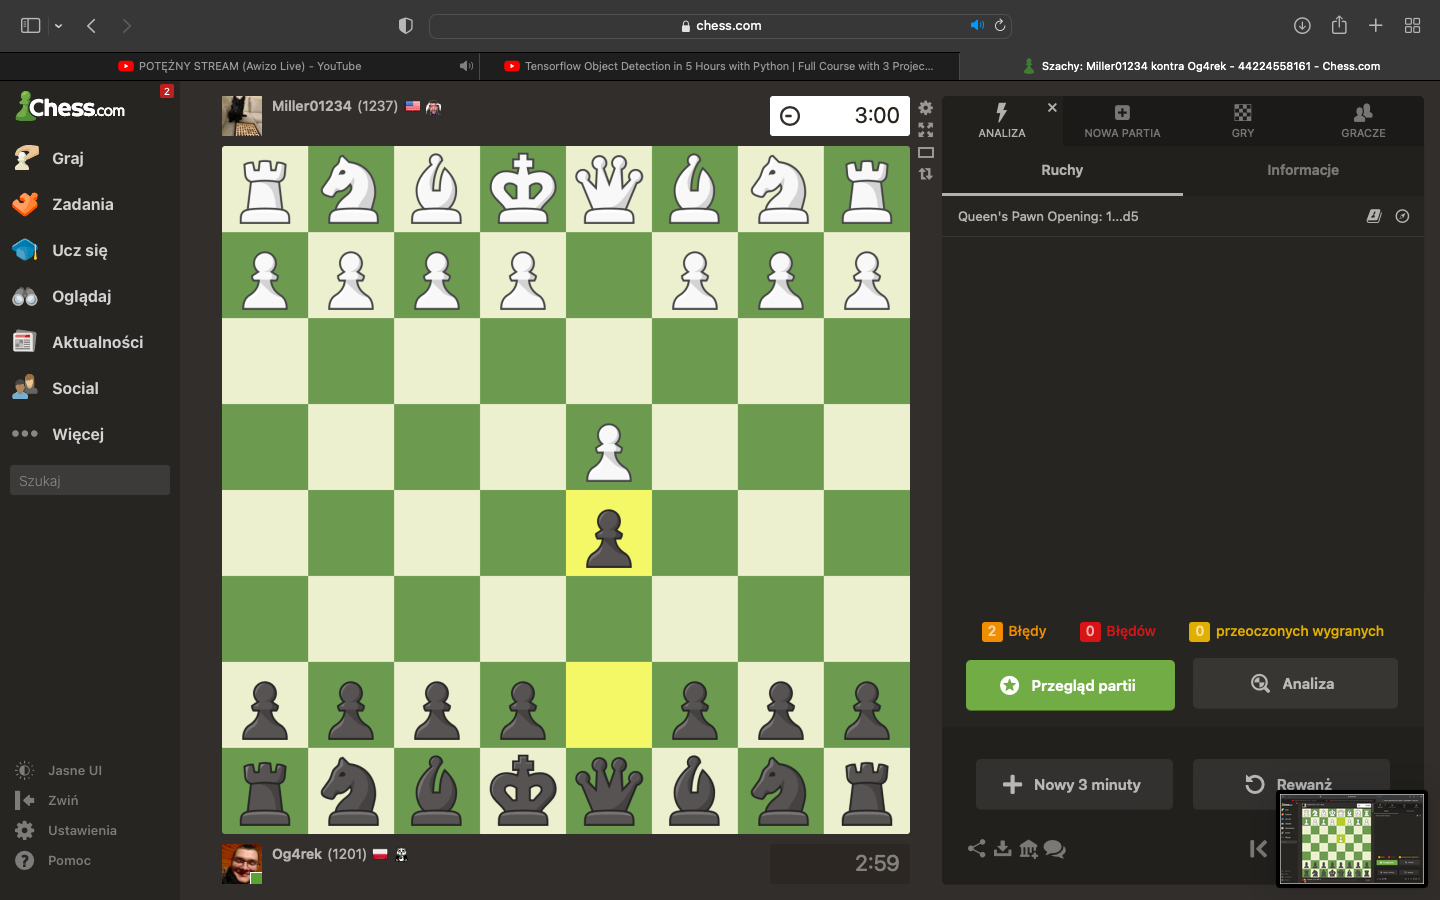bishop: (410, 153, 463, 224), (411, 756, 463, 826), (669, 154, 722, 225), (669, 756, 719, 827)
king: (489, 754, 557, 826), (489, 153, 557, 224)
knight: (750, 757, 810, 827), (319, 758, 380, 826), (750, 154, 810, 224), (321, 154, 379, 224)
pawn: (413, 681, 462, 740), (671, 681, 719, 740), (328, 252, 376, 310), (243, 251, 290, 310), (415, 251, 461, 310), (500, 251, 546, 310), (500, 681, 546, 740), (672, 251, 717, 311), (242, 681, 287, 741), (759, 681, 804, 741), (586, 424, 633, 481), (586, 510, 632, 568), (844, 681, 890, 740), (329, 681, 373, 740), (759, 252, 803, 310), (845, 252, 890, 310)
queen: (575, 757, 644, 826), (576, 154, 643, 225)
rook: (238, 762, 292, 827), (840, 763, 894, 827), (842, 161, 894, 224), (241, 161, 292, 223)
